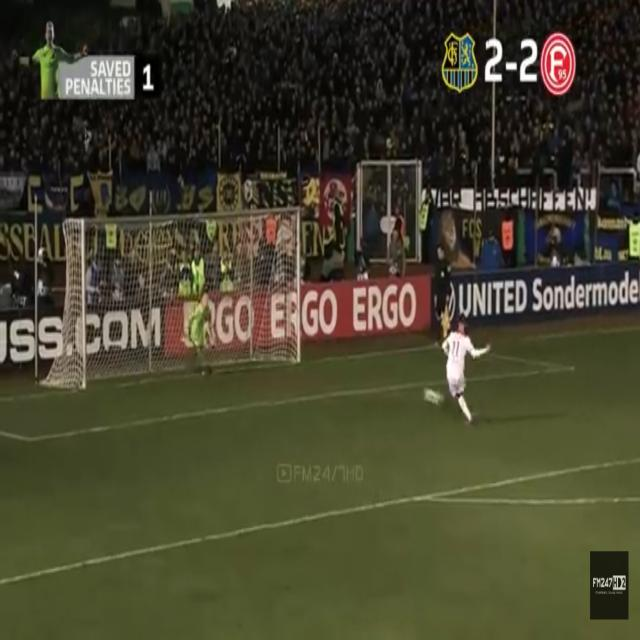right-top: (190, 211, 300, 219)
soccer-goal: (83, 212, 298, 389)
